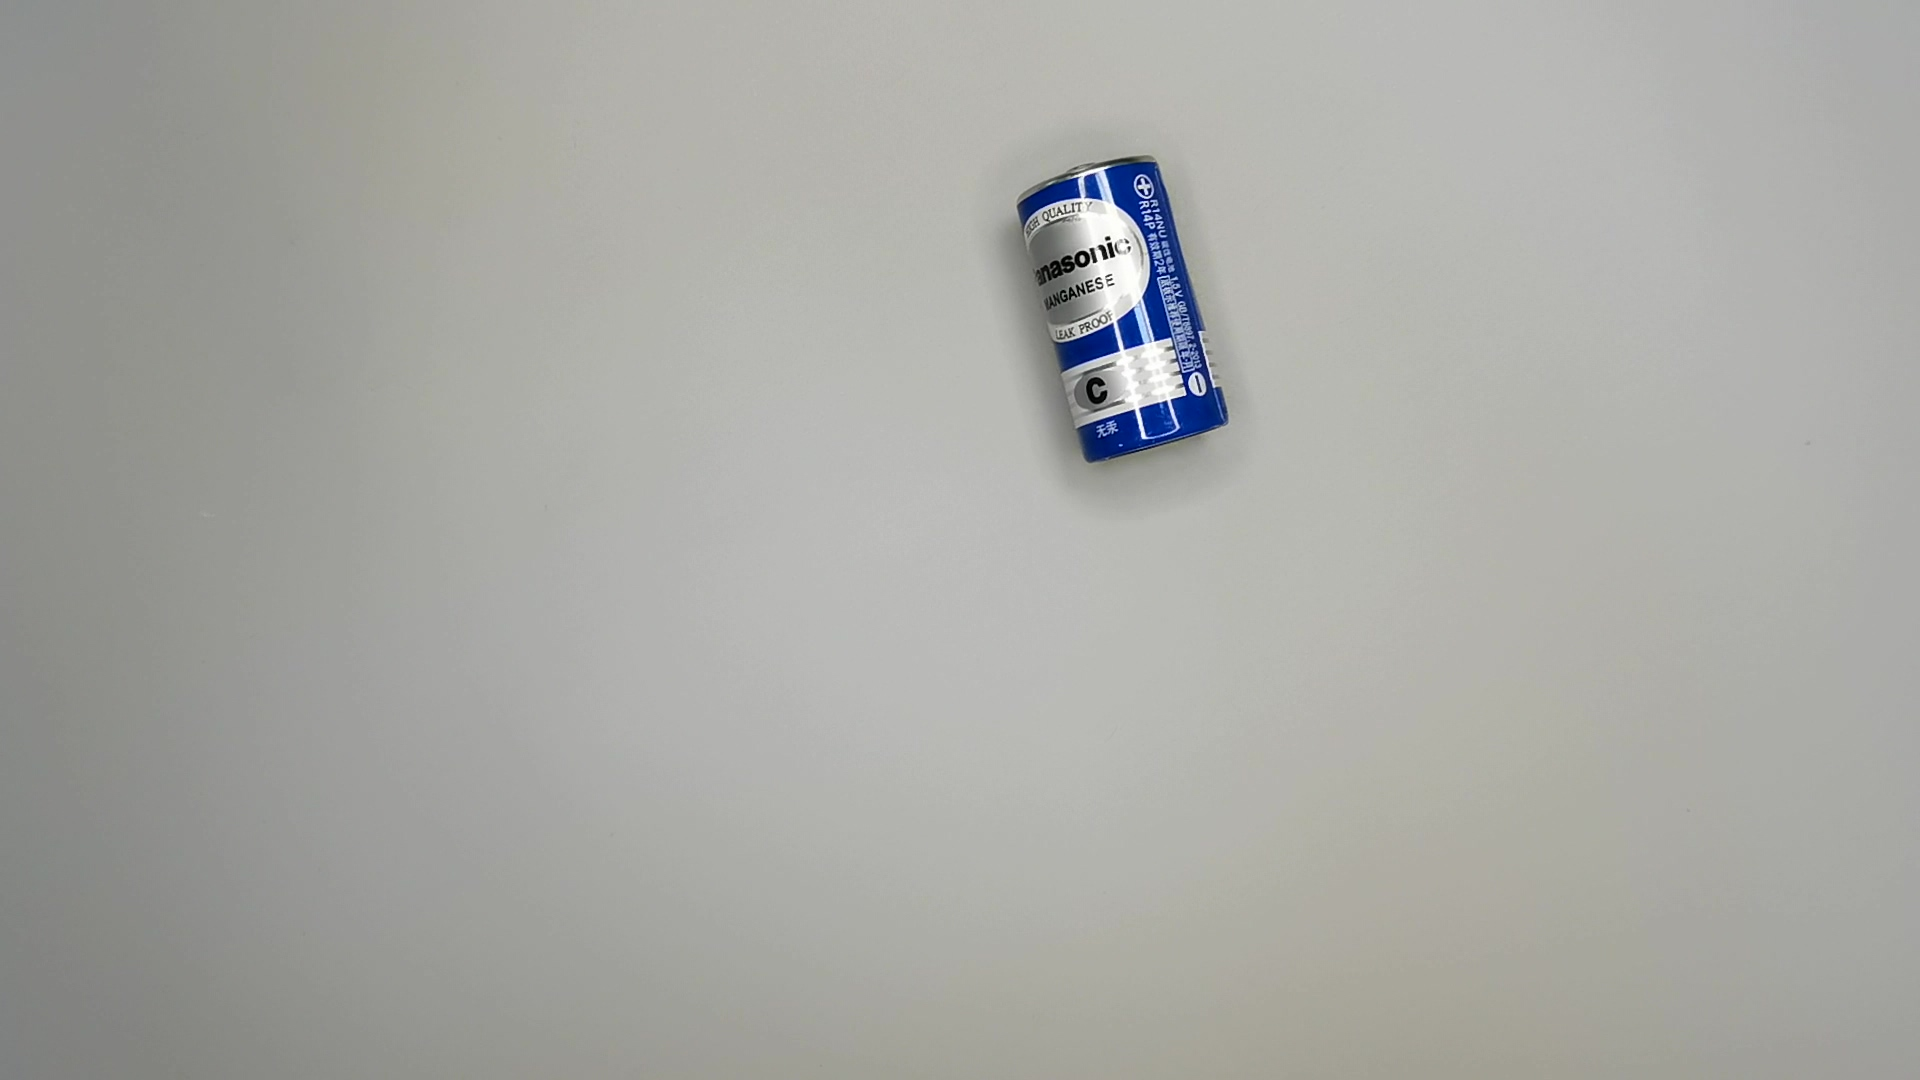battery: (1015, 145, 1228, 471)
